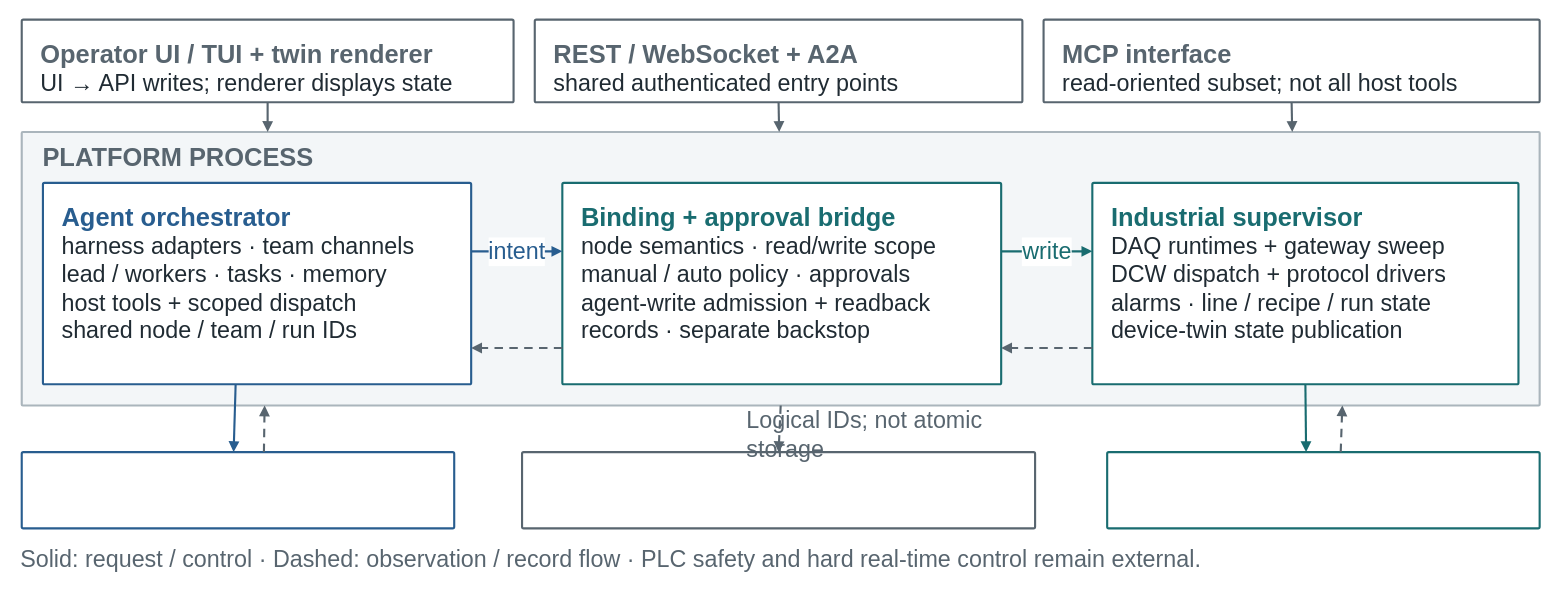
The diagram is 1558 pixels wide and 593 high, and some of its shapes have lost their labels. Each missing label, with the box of its shape:
External CLI engines separate processes; containment external: (20, 450, 455, 529)
Plant / protocol boundary physical devices or seeded scenarios: (1106, 450, 1540, 529)
Separate persistent stores platform DB · time series · objects · audit: (520, 450, 1036, 529)
